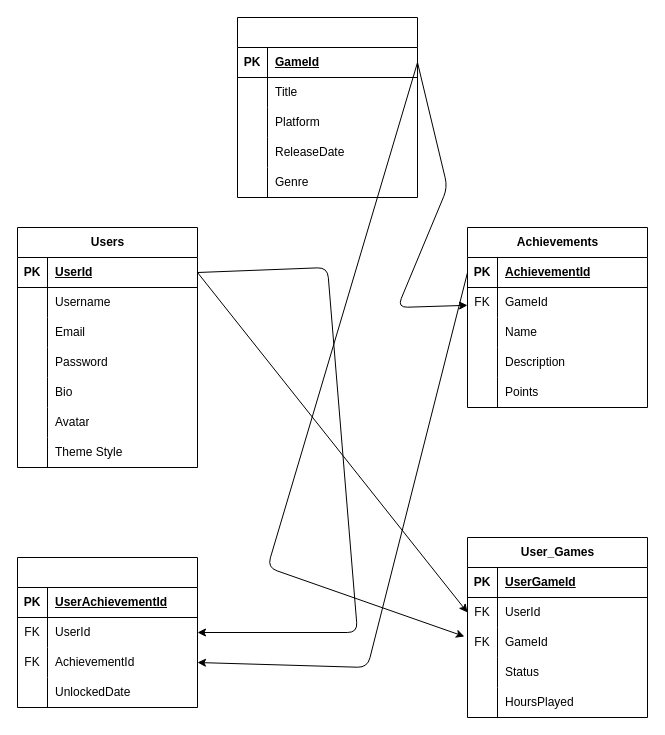
Some shapes in this 665 by 735 pixel diagram are drawn without their labels. The shapes that lost their labels are listed below. From the top down, each one's box as (x1, y1, x2, y2) in pixels, then its label:
(236, 16, 418, 198): Games
(16, 556, 198, 708): User_Achievements
